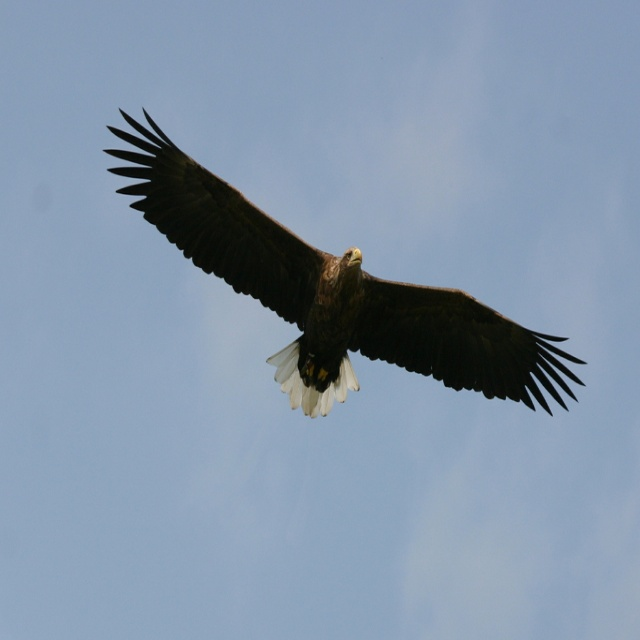Eagle: (102, 103, 590, 422)
